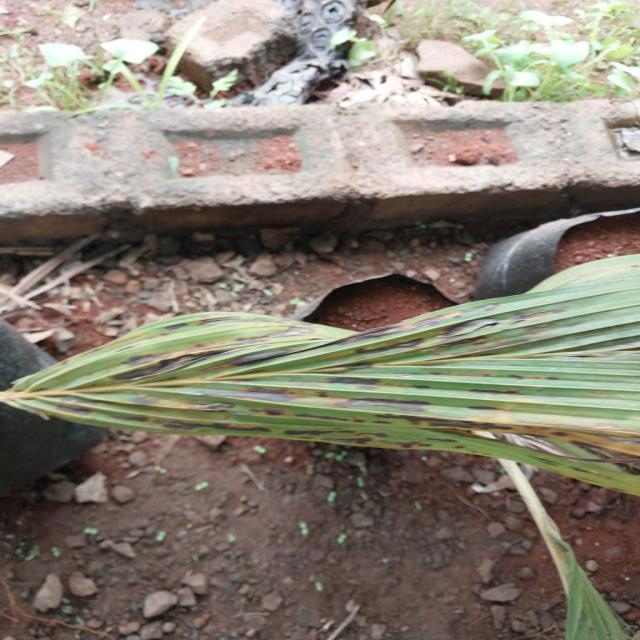gray leaf spot: (16, 284, 637, 489)
